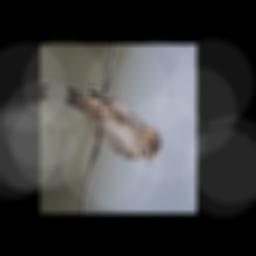Swallow: (56, 80, 171, 167)
